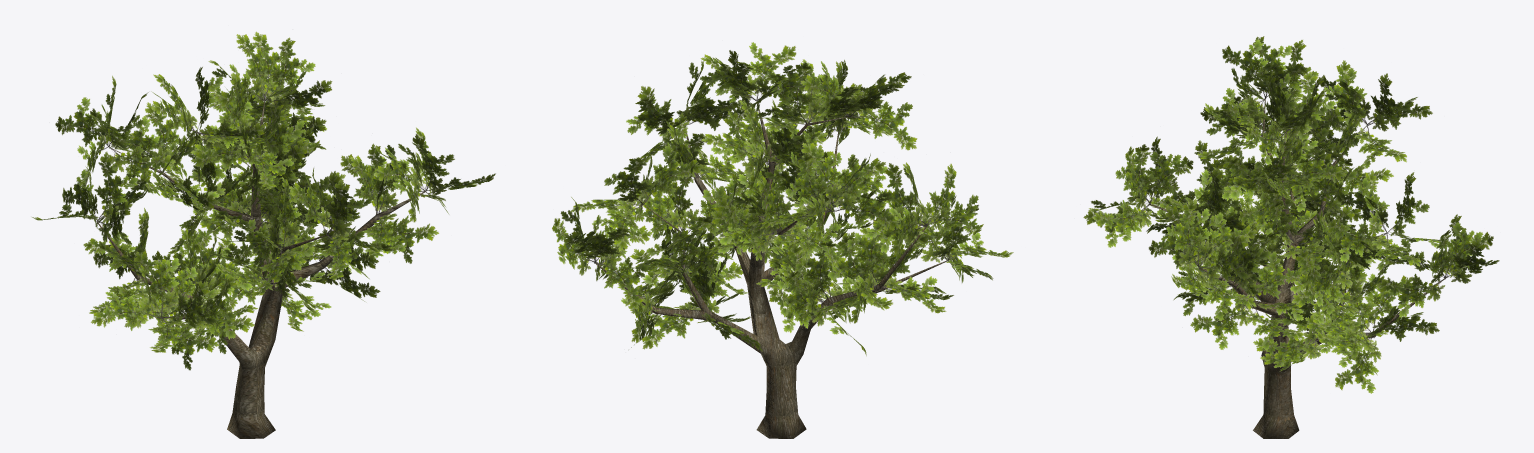
File: tree10.glb
The picture shows the model from 3 angles, left to right: view 1: azimuth 30°, elevation 25°; view 2: azimuth 150°, elevation 25°; view 3: azimuth 270°, elevation 25°; orthographic projection. The views are drawn at different scales.
Parts seen in each view (by area): view 1: Leaves, Tree; view 2: Leaves, Tree; view 3: Leaves, Tree.
Boxes of the visible parts, x1,y1,x2,y2 form: Leaves: (32, 31, 495, 370); Tree: (97, 100, 426, 438); Leaves: (552, 42, 1013, 356); Tree: (595, 100, 947, 438); Leaves: (1083, 36, 1499, 393); Tree: (1150, 98, 1444, 438).
Size of the model in its own units: 4.34 by 3.69 by 4.12.
2 materials, 2 textured.
